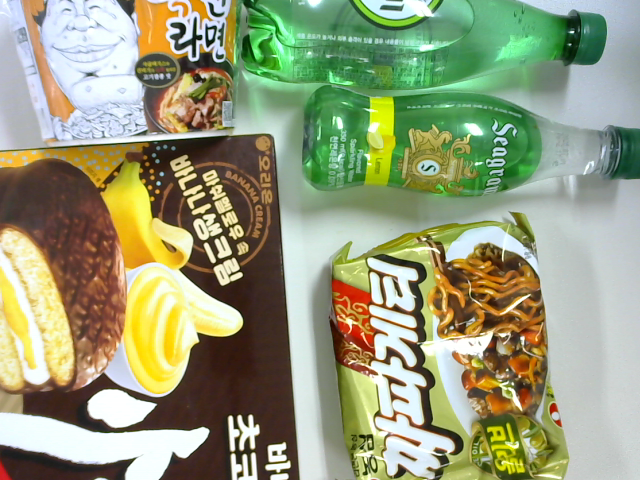Choco_Pie_Banana: (5, 142, 308, 480)
Hejangchan: (5, 1, 251, 144)
Olive_Chapaghetti: (327, 222, 572, 480)
Seagram_Lemon_Carbonated_Water: (303, 82, 640, 207)
Treviraim_500ml: (243, 4, 605, 94)
